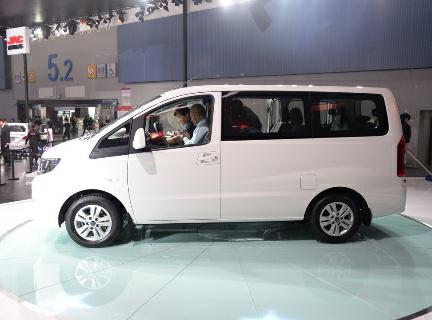江淮-瑞风M4: (25, 80, 412, 250)
